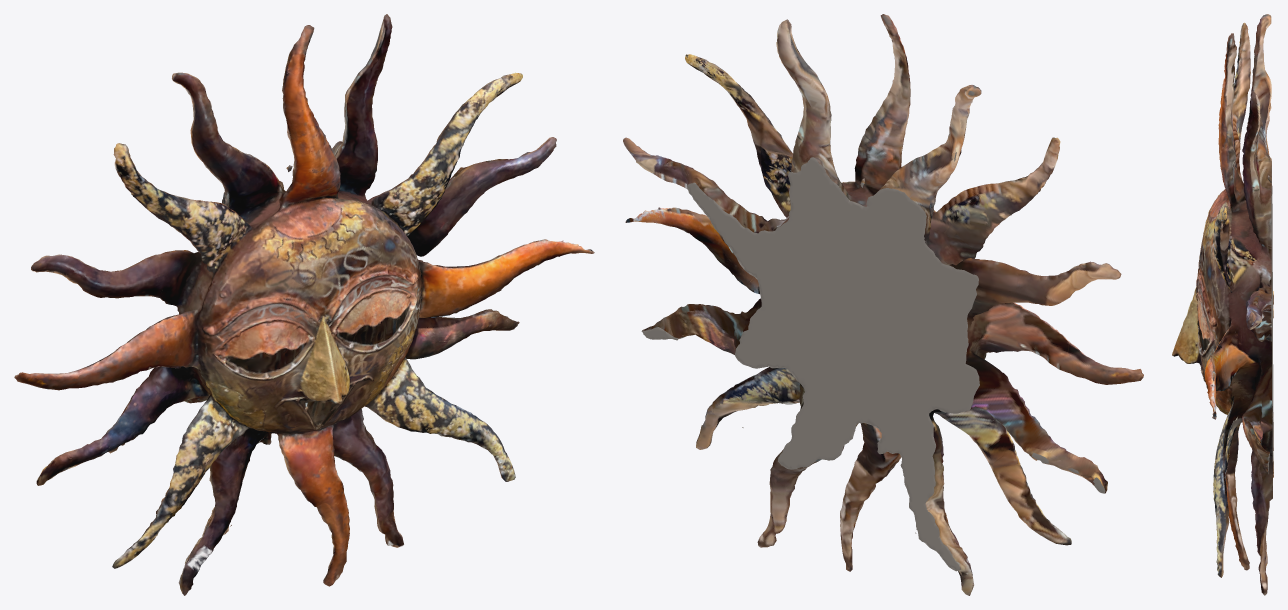
File: sun.glb
3 views of the same model, side by side, from view 1: azimuth 30°, elevation 25°; view 2: azimuth 150°, elevation 25°; view 3: azimuth 270°, elevation 25° (orthographic). The views are drawn at different scales.
Parts seen in each view (by area): view 1: Object_2; view 2: Object_2, Object_3; view 3: Object_2, Object_3.
Boxes of the visible parts, x1,y1,x2,y2 form: Object_2: [14, 14, 594, 595]; Object_2: [623, 14, 1143, 595]; Object_3: [641, 90, 1105, 571]; Object_2: [1172, 14, 1273, 595]; Object_3: [1268, 161, 1273, 473].
Bounding box in the file's own units: 0.6609 × 0.6519 × 0.115.
Materials: 1 (1 with a texture image).
